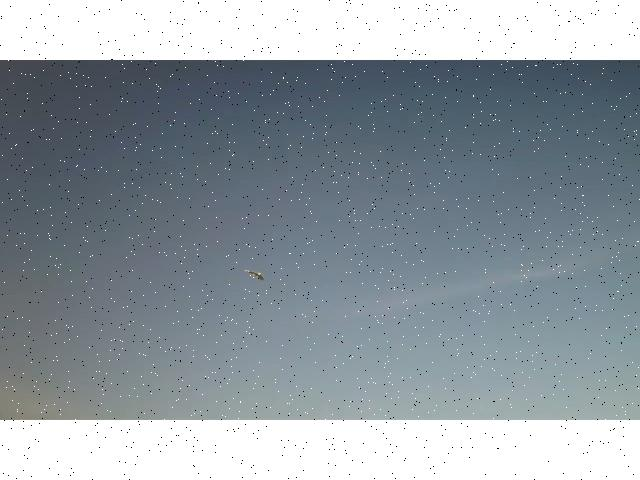Anti-Drone: (246, 270, 264, 280)
